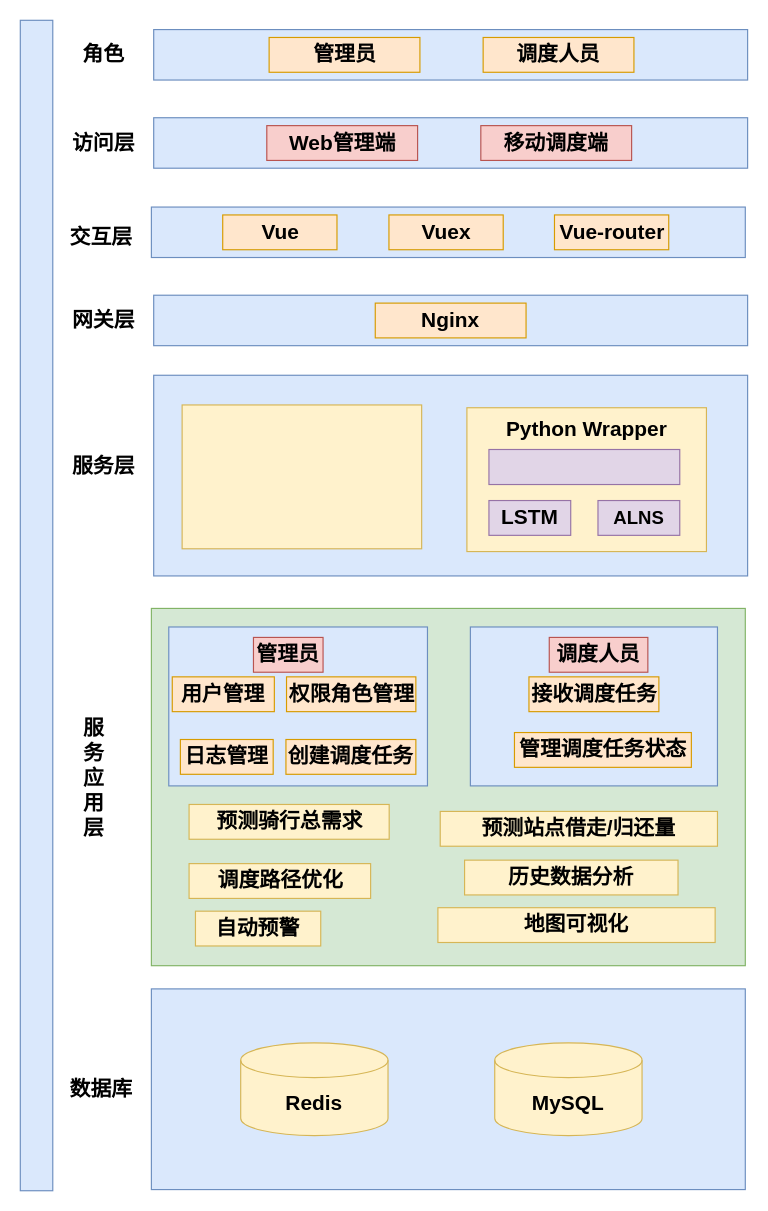
Some shapes in this 768 by 1211 pixel diagram are drawn without their labels. The shapes that lost their labels are listed below. From the top down, each one's centre as x and y in pixels, then its label:
At point (301, 476): "Springboot".
At point (584, 466): "Lightgbm".
At point (36, 605): "共享单车需求预测和调度系统".
